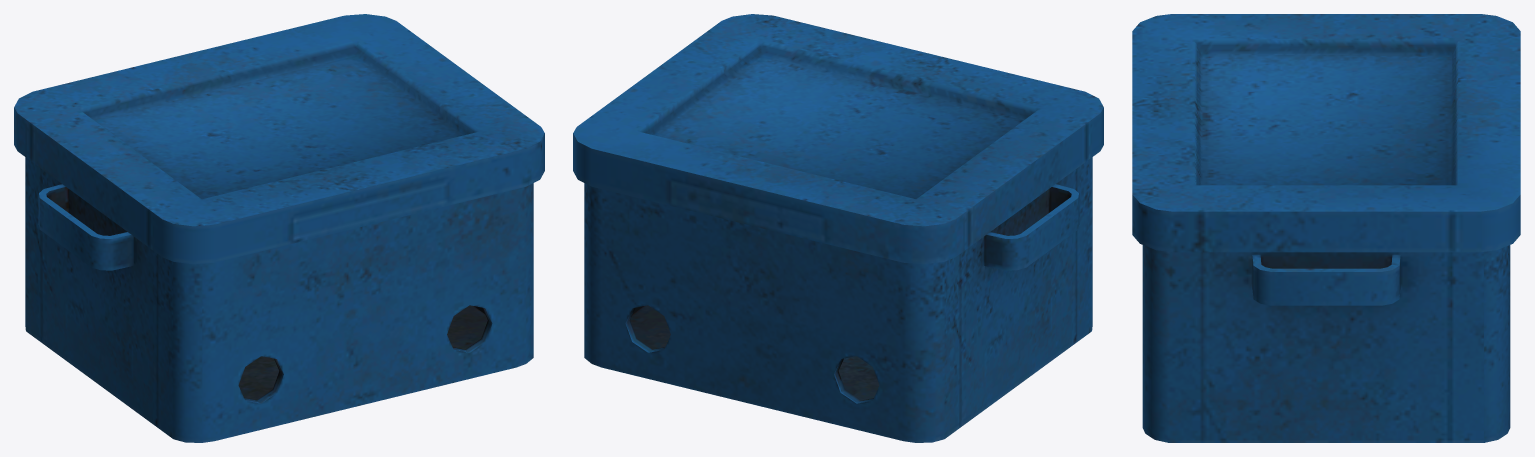
Rendered from box_clothing_closed.dae.
3 views of the same model, side by side, from view 1: azimuth 30°, elevation 25°; view 2: azimuth 150°, elevation 25°; view 3: azimuth 270°, elevation 25° (orthographic). The views are drawn at different scales.
Visible parts, largest first — view 1: polymsh; view 2: polymsh; view 3: polymsh.
Boxes of the visible parts, bbox=[...] form: polymsh: bbox=[14, 14, 544, 442]; polymsh: bbox=[573, 14, 1103, 442]; polymsh: bbox=[1132, 14, 1520, 442].
Size of the model in its own units: 39.9 by 19.73 by 29.39.
